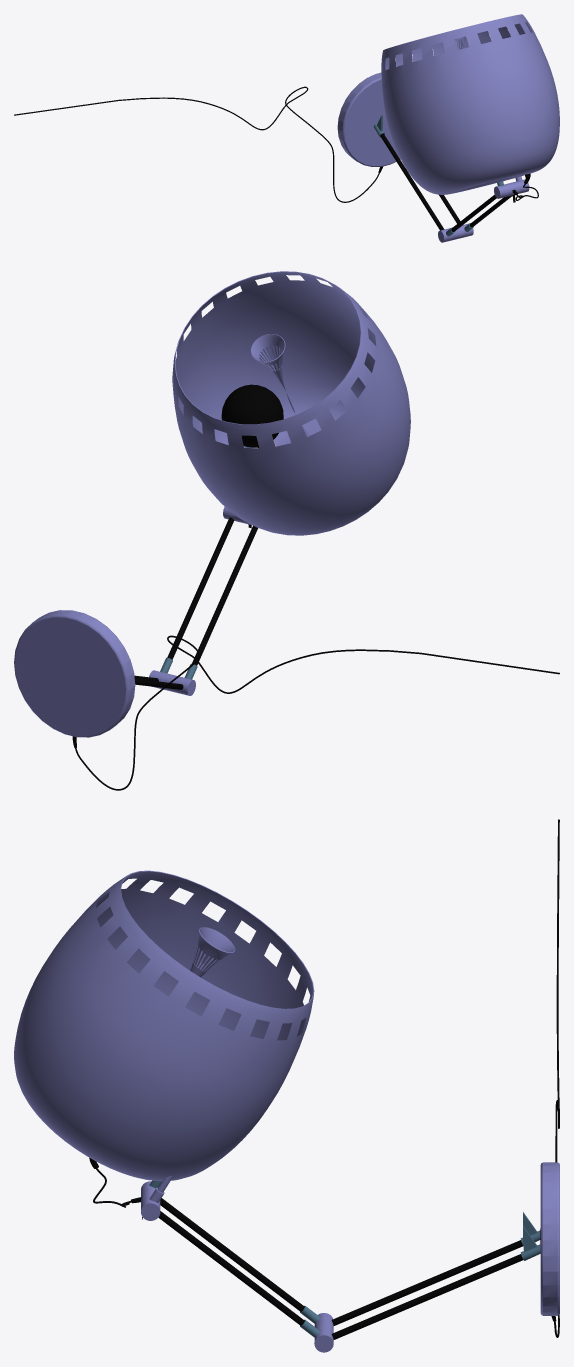
The model's file is lamp.obj.
The picture shows the model from 3 angles, top to bottom: view 1: azimuth 30°, elevation 25°; view 2: azimuth 150°, elevation 25°; view 3: azimuth 270°, elevation 25°; orthographic projection. The views are drawn at different scales.
Visible parts, largest first — view 1: Shape27; view 2: Shape27; view 3: Shape27.
Part boxes in pixels (<box>): Shape27: <box>14,14,559,242</box>; Shape27: <box>14,271,559,790</box>; Shape27: <box>14,819,559,1352</box>.
Bounding box in the file's own units: 761 × 506 × 567.
